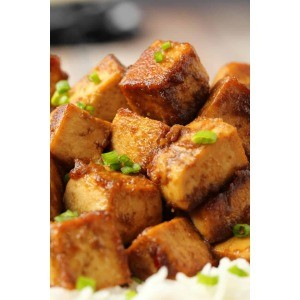tofu_brain food: (74, 36, 238, 275)
